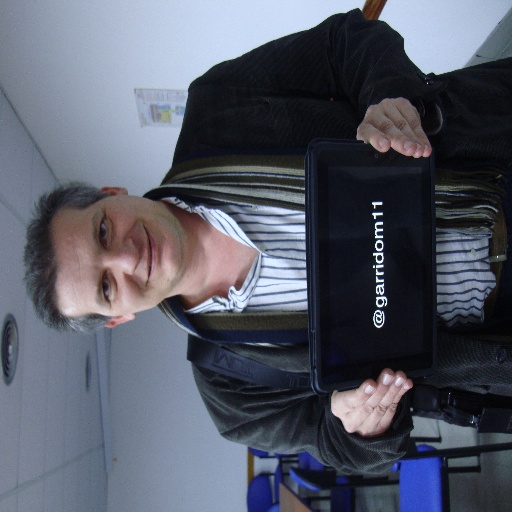hand: (336, 381, 417, 446), (354, 97, 432, 160)
